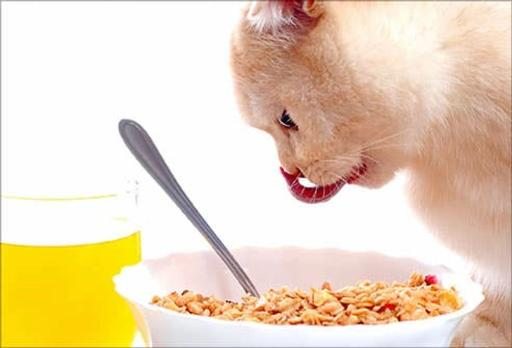cat_eating: (114, 0, 511, 347)
